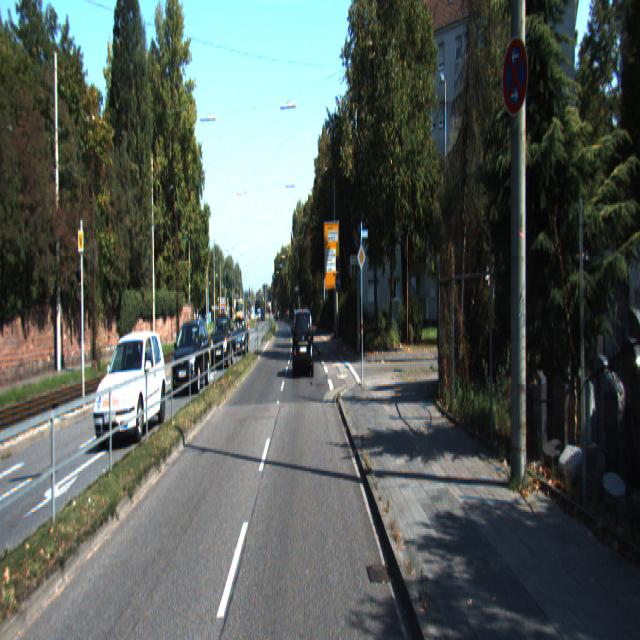Car: (94, 322, 168, 446), (171, 321, 211, 401), (293, 307, 315, 379), (211, 313, 234, 371), (230, 319, 250, 359)
